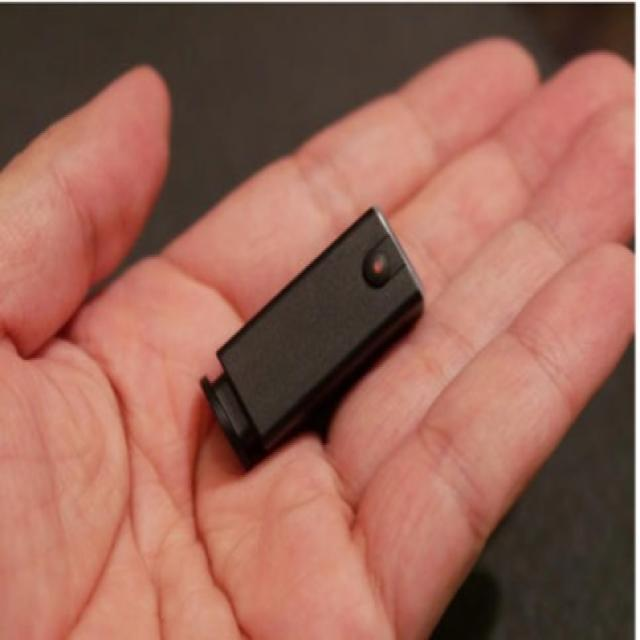hidden camera: (363, 249, 392, 286)
